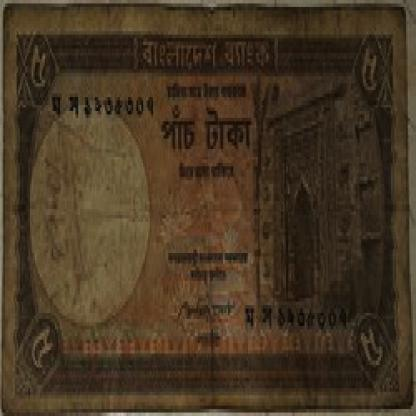Five Taka: (158, 100, 255, 163), (25, 319, 57, 381), (359, 319, 388, 385), (358, 42, 382, 104), (27, 38, 50, 101)
